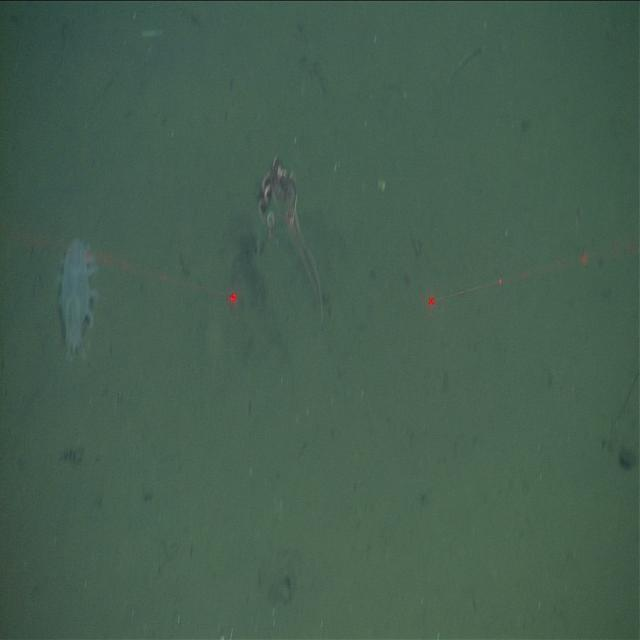Brittle Star: (255, 146, 326, 334)
Not Brittle Star: (54, 228, 104, 365)
